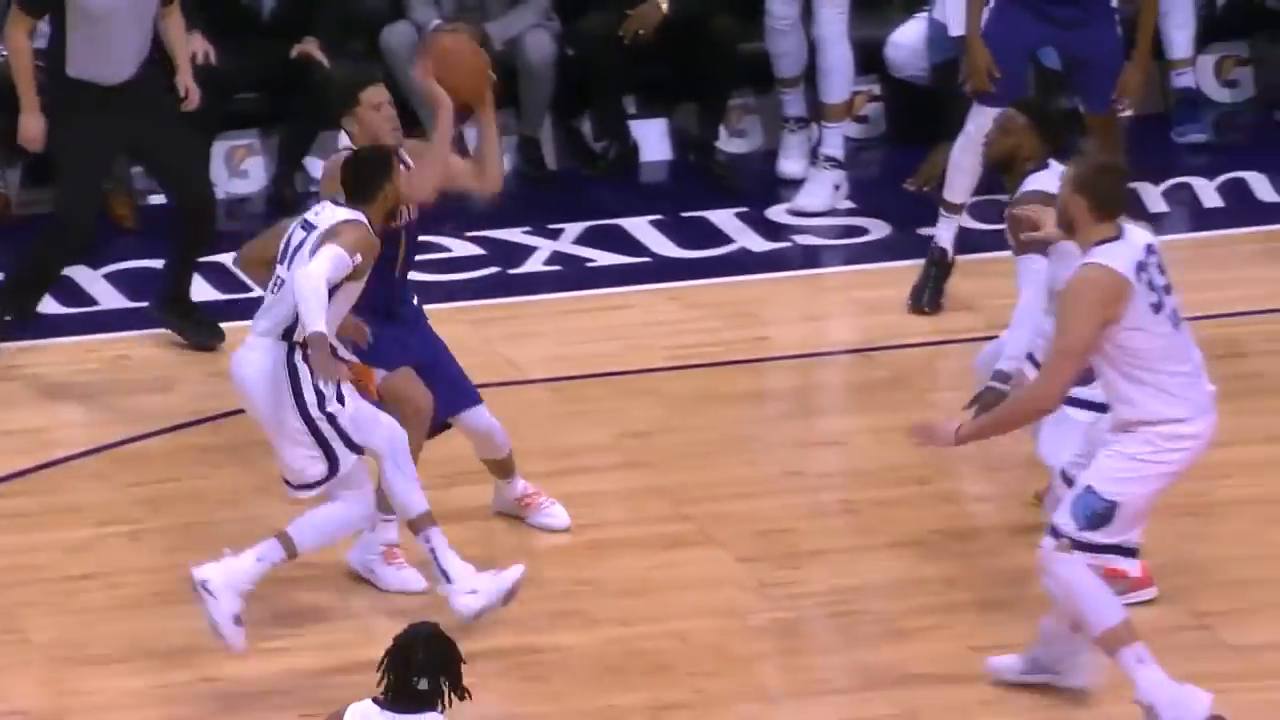ball: (422, 29, 492, 109)
